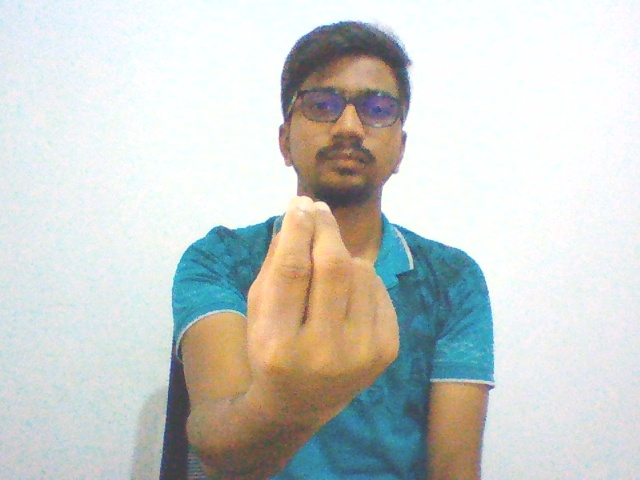dog: (237, 185, 410, 433)
